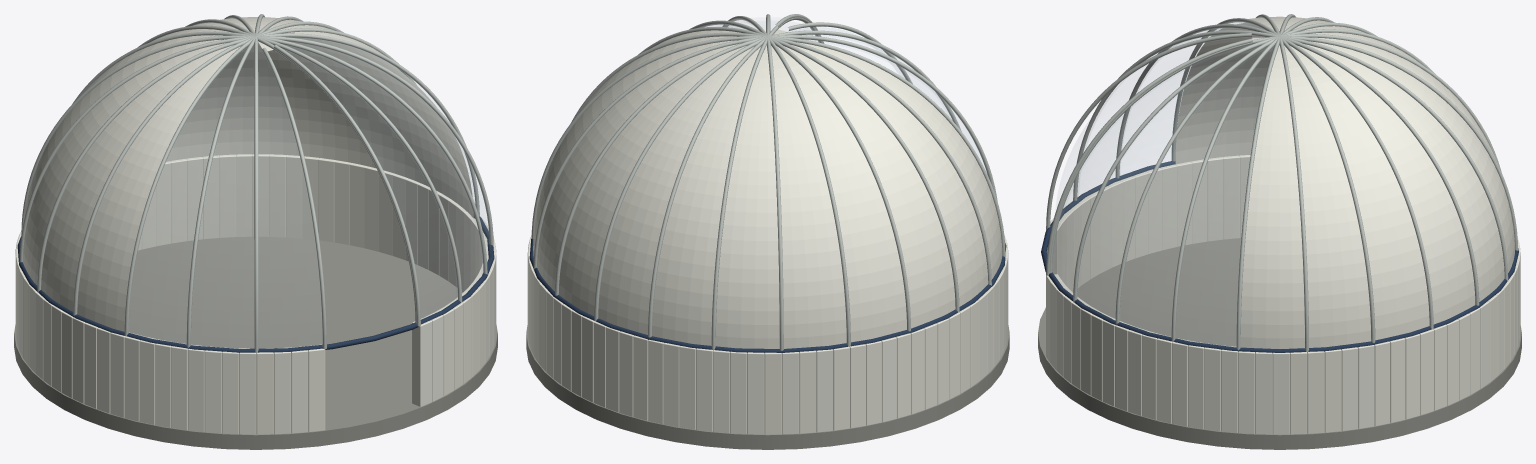
File: planetarium-and-optical-observatory-observatory-dome-b-1dbccfb2__31843.glb
3 views of the same model, side by side, from view 1: azimuth 30°, elevation 25°; view 2: azimuth 150°, elevation 25°; view 3: azimuth 270°, elevation 25° (orthographic).
Visible parts, largest first — view 1: observatory-dome-base; view 2: observatory-dome-base; view 3: observatory-dome-base.
Boxes of the visible parts, x1,y1,x2,y2 form: observatory-dome-base: (14,14,497,449); observatory-dome-base: (526,14,1009,449); observatory-dome-base: (1038,14,1521,449).
Bounding box in the file's own units: 5.04 × 3.58 × 5.04.
